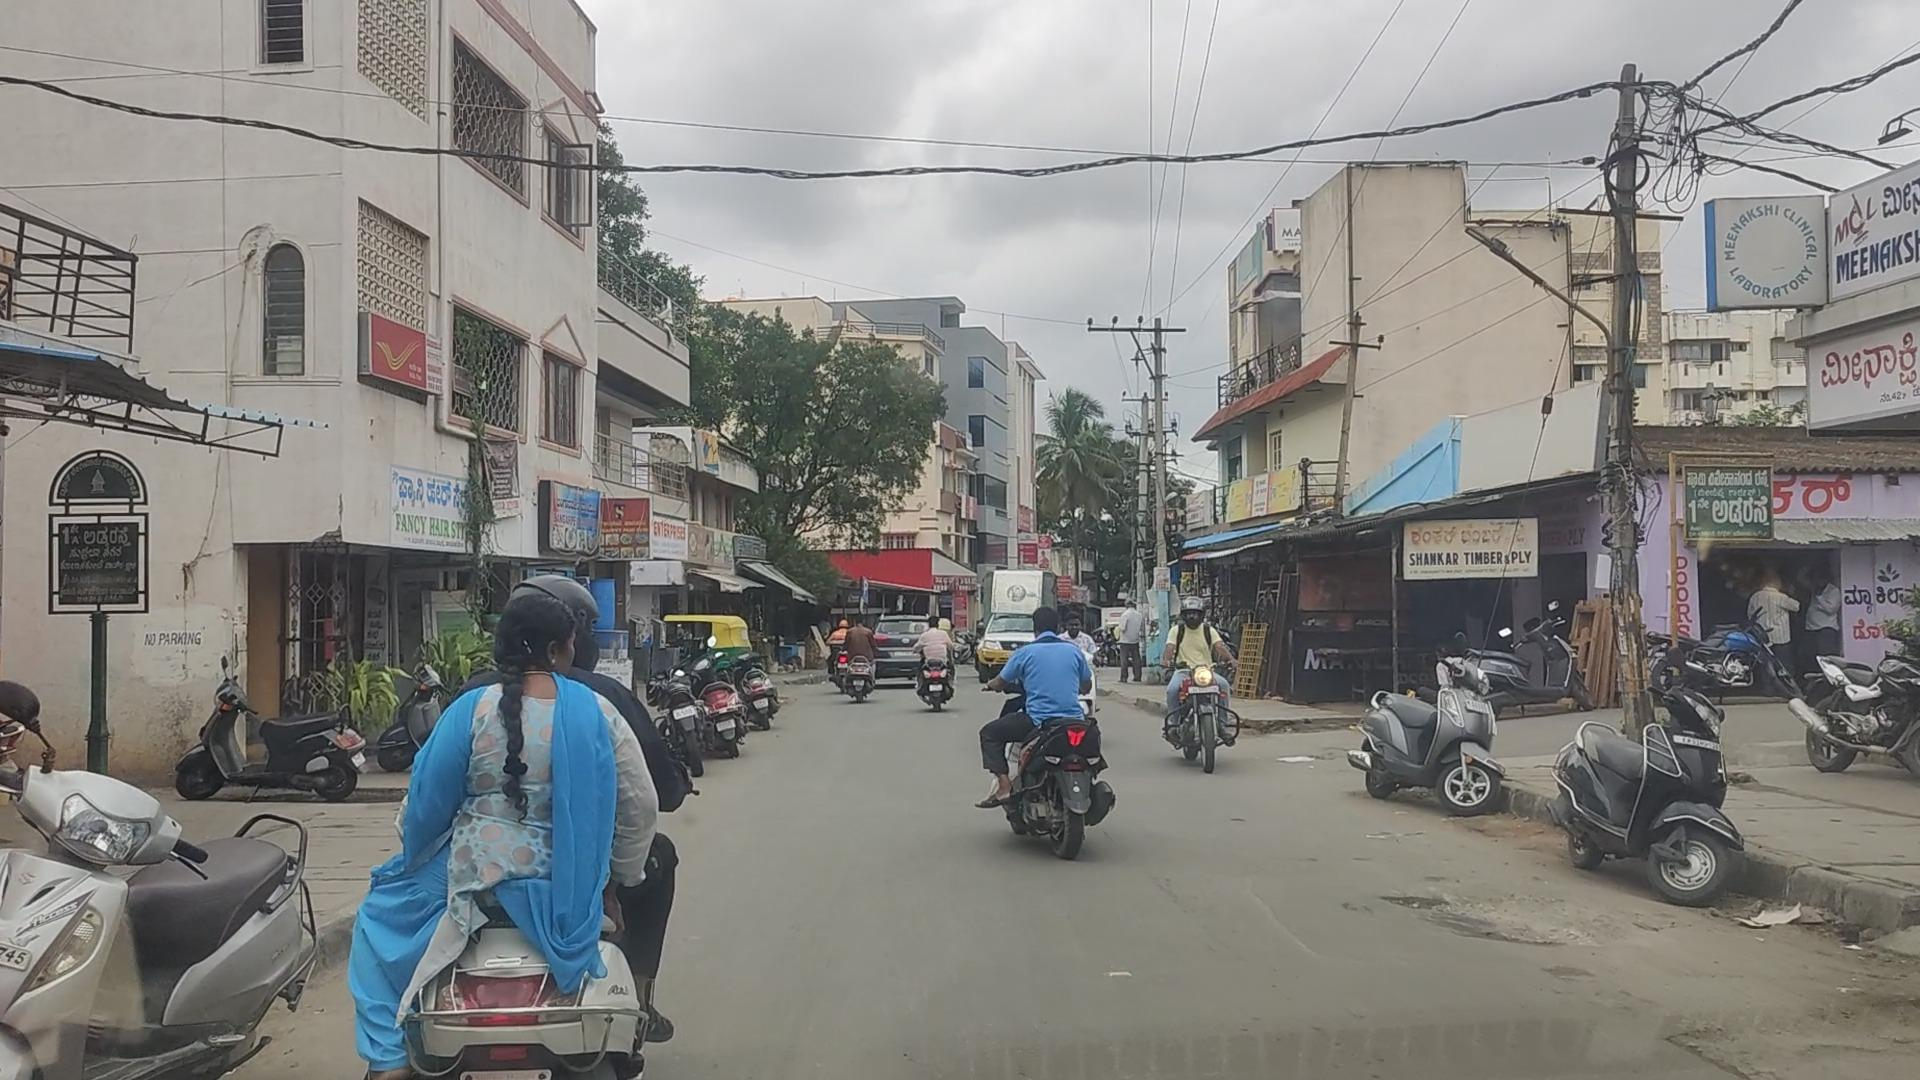LMV: (393, 566, 674, 1080), (992, 601, 1117, 874), (910, 612, 952, 711)
RoadDamages: (1402, 861, 1573, 959), (1662, 978, 1812, 1080)
